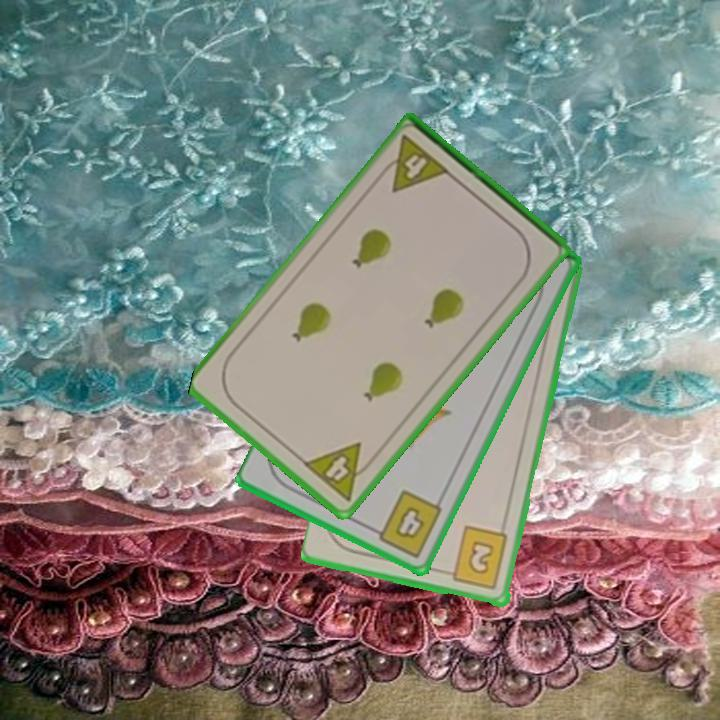2b: (440, 523, 511, 593)
4b: (367, 486, 446, 561)
4p: (299, 439, 380, 505), (374, 132, 453, 196)
